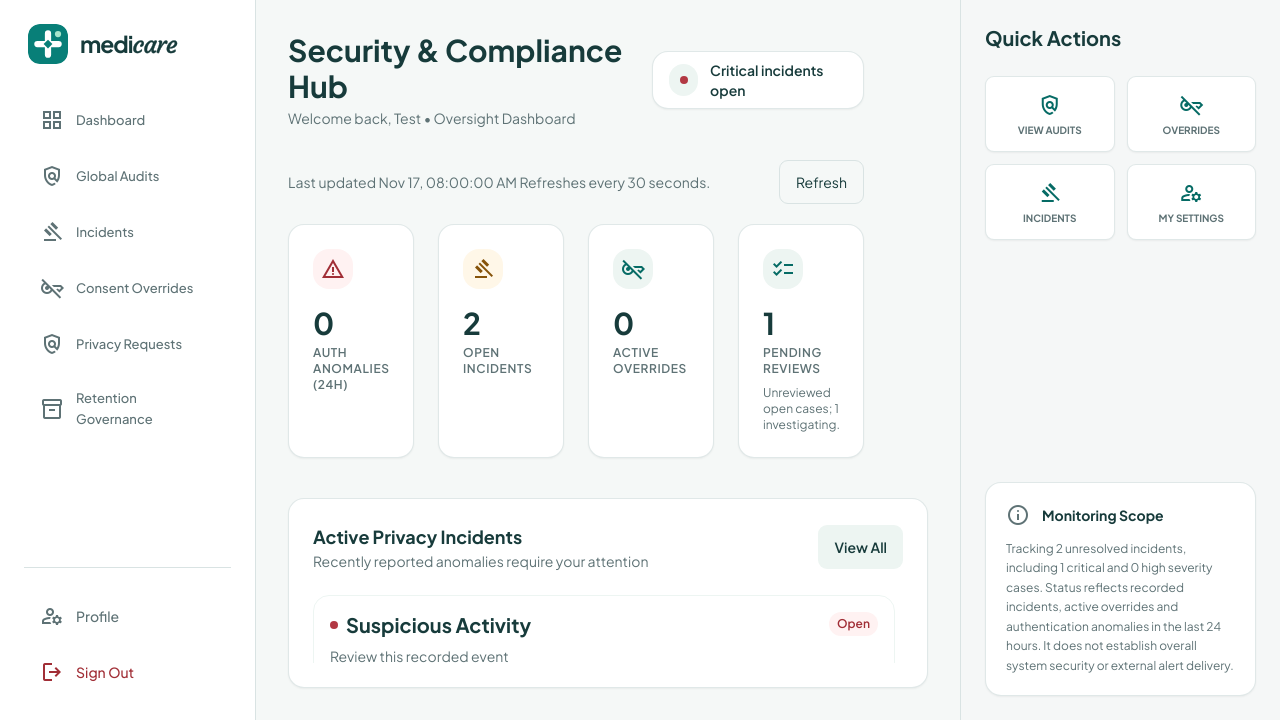
Test: retains a successful snapshot but labels it stale after a refresh fails
Expected: the text "Critical incidents open" is shown, [710,61,824,99]
Click the button with aria-label "Refresh dashboard" at (822, 182), box [779,160,864,204]
(page scrolled)
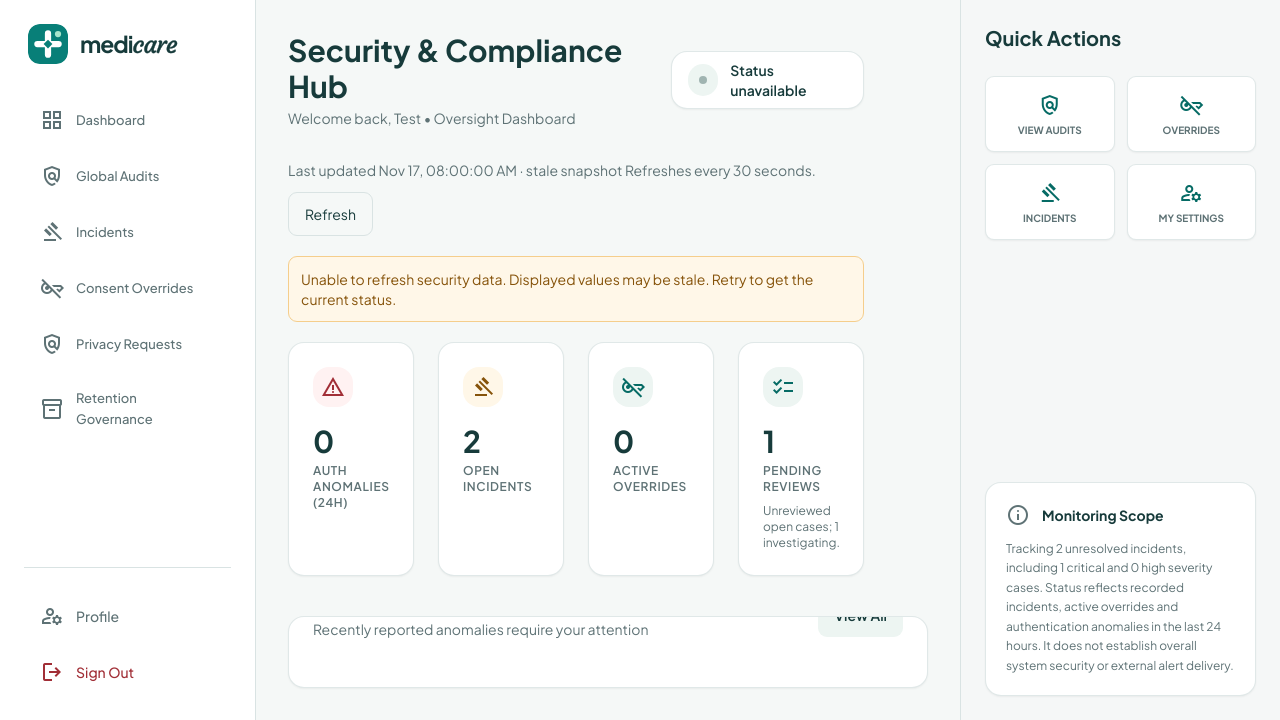
Expected: the 2nd message shows "stale", [301,270,814,308]
Expected: the text "Status unavailable" is shown, [730,61,806,99]
